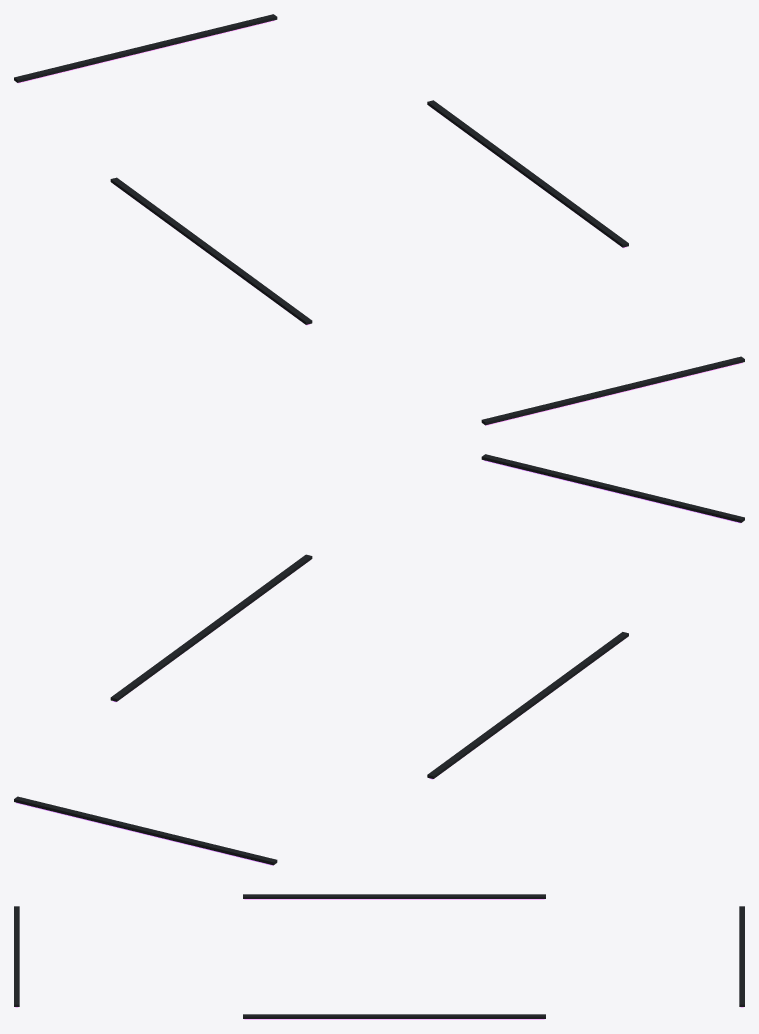
The model's file is hana_roadster.glb.
3 renders of one model, top to bottom at view 1: azimuth 30°, elevation 25°; view 2: azimuth 150°, elevation 25°; view 3: azimuth 270°, elevation 25°, orthographic. The views are drawn at different scales.
Visible parts, largest first — view 1: model; view 2: model; view 3: model.
Part boxes in pixels (x1=…): model: x1=14, y1=14, x2=744, y2=425; model: x1=14, y1=454, x2=744, y2=865; model: x1=14, y1=894, x2=744, y2=1019.
Size of the model in its own units: 1.43 by 0.0181 by 3.61.
2 materials, 1 textured.
